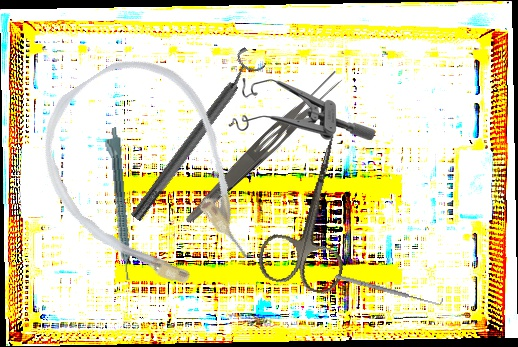Cannula: (13, 34, 287, 326)
Dressing Forceps: (181, 66, 347, 232)
Fixation Ring: (121, 45, 269, 228)
Handpiece: (101, 127, 134, 281)
Hook Surgical: (334, 269, 444, 309)
Iris Scissors: (253, 123, 376, 298)
Speculum: (228, 78, 375, 140)
